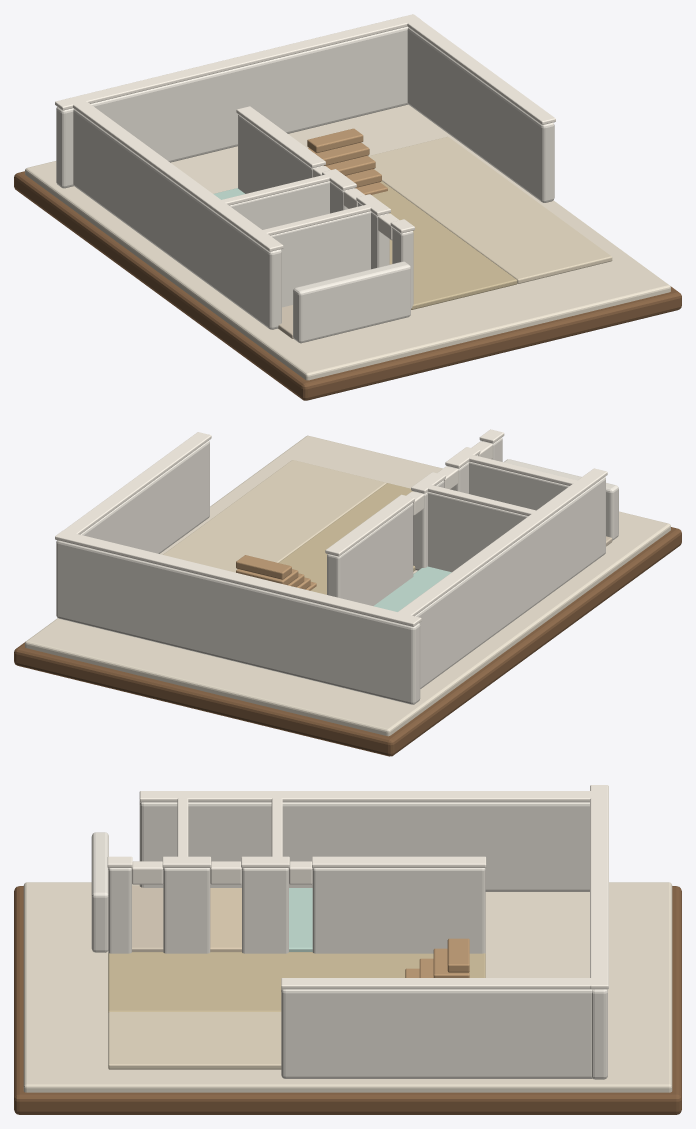
The model's file is house-l2.glb.
3 views of the same model, one above another, from view 1: azimuth 30°, elevation 25°; view 2: azimuth 150°, elevation 25°; view 3: azimuth 270°, elevation 25° (orthographic). The views are drawn at different scales.
Visible parts, largest first — view 1: Skirt, WallNorth, WallWest, FloorBed, Plinth, WallEast, WallSouthWest, FloorHall, CrossLaundry, WallNorthCap, WallWestCap, DivBath (+10 smaller); view 2: WallNorth, Skirt, WallWest, Plinth, FloorBed, WallEast, DivBath, CrossCloset, WallNorthCap, WallWestCap, FloorHall, CrossLaundry (+8 smaller); view 3: Skirt, WallWest, WallEast, Plinth, DivBath, FloorHall, FloorBed, WallWestCap, DivBtwn2, DivBtwn1, WallNorthCap, WallEastCap (+16 smaller).
Boxes of the visible parts, x1,y1,x2,y2 form: Skirt: (25, 104, 670, 380); WallNorth: (56, 26, 408, 188); WallWest: (73, 109, 281, 329); FloorBed: (368, 136, 612, 283); Plinth: (14, 171, 681, 400); WallEast: (407, 27, 554, 202); WallSouthWest: (293, 261, 410, 343); FloorHall: (372, 181, 517, 309); CrossLaundry: (270, 211, 371, 307); WallNorthCap: (55, 14, 420, 110); WallWestCap: (72, 100, 283, 251); DivBath: (238, 114, 323, 193); WallNorth: (56, 540, 420, 704); Skirt: (25, 435, 670, 736); WallWest: (415, 477, 605, 688); Plinth: (14, 527, 681, 756); FloorBed: (163, 460, 386, 572); WallEast: (80, 440, 209, 553); DivBath: (327, 503, 413, 605); CrossCloset: (427, 491, 528, 572); WallNorthCap: (55, 530, 421, 626); WallWestCap: (398, 468, 607, 616); FloorHall: (278, 483, 415, 594); CrossLaundry: (468, 461, 569, 510); Skirt: (23, 882, 672, 1092); WallWest: (139, 801, 589, 891); WallEast: (281, 989, 592, 1078); Plinth: (14, 886, 681, 1114); DivBath: (312, 868, 485, 953); FloorHall: (108, 952, 485, 1012); FloorBed: (108, 1012, 281, 1069); WallWestCap: (139, 791, 594, 802); DivBtwn2: (163, 868, 210, 953); DivBtwn1: (242, 868, 288, 953); WallNorthCap: (590, 785, 608, 989); WallEastCap: (281, 978, 593, 989).
Size of the model in its own units: 6.4 by 1.76 by 8.5.
